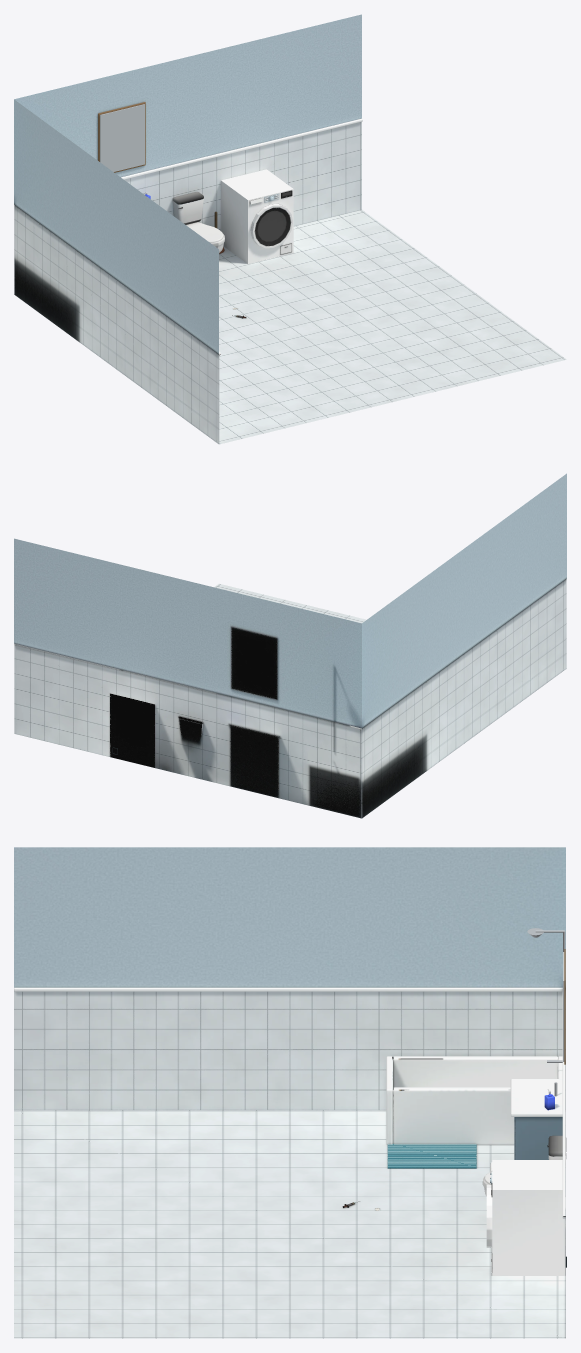
Rendered from escenario_fentanilo.glb.
3 renders of one model, top to bottom at view 1: azimuth 30°, elevation 25°; view 2: azimuth 150°, elevation 25°; view 3: azimuth 270°, elevation 25°, orthographic. The views are drawn at different scales.
Visible parts, largest first — view 1: Piso, Pared_fondo, Pared_izq, Enchape_izq, Enchape_fondo, Mueble_KA-F600_Washer_V1, Espejo, Mueble_Toilet, Remate_fondo; view 2: Pared_fondo, Enchape_fondo, Pared_izq, Enchape_izq, Piso; view 3: Piso, Pared_izq, Enchape_izq, Mueble_KA-F600_Washer_V1, Banera_pared2, Banera_pared3, Remate_izq, Alfombra_bano, Tope, Gabinete, Remate_fondo, Banera_pared0.
Part boxes in pixels (x1=…): Piso: x1=14, y1=210, x2=566, y2=444; Pared_fondo: x1=14, y1=14, x2=361, y2=177; Pared_izq: x1=14, y1=99, x2=218, y2=353; Enchape_izq: x1=14, y1=205, x2=219, y2=443; Enchape_fondo: x1=124, y1=121, x2=361, y2=230; Mueble_KA-F600_Washer_V1: x1=221, y1=169, x2=293, y2=263; Espejo: x1=100, y1=104, x2=144, y2=171; Mueble_Toilet: x1=172, y1=192, x2=224, y2=252; Remate_fondo: x1=121, y1=118, x2=362, y2=179; Pared_fondo: x1=14, y1=538, x2=361, y2=728; Enchape_fondo: x1=14, y1=644, x2=361, y2=818; Pared_izq: x1=362, y1=473, x2=566, y2=727; Enchape_izq: x1=361, y1=579, x2=566, y2=817; Piso: x1=14, y1=583, x2=565, y2=818; Piso: x1=14, y1=1110, x2=565, y2=1338; Pared_izq: x1=14, y1=847, x2=565, y2=988; Enchape_izq: x1=14, y1=989, x2=565, y2=1110; Mueble_KA-F600_Washer_V1: x1=486, y1=1160, x2=566, y2=1275; Banera_pared2: x1=393, y1=1087, x2=514, y2=1144; Banera_pared3: x1=393, y1=1056, x2=557, y2=1088; Remate_izq: x1=14, y1=987, x2=562, y2=991; Alfombra_bano: x1=387, y1=1144, x2=476, y2=1168; Tope: x1=510, y1=1079, x2=562, y2=1116; Gabinete: x1=515, y1=1117, x2=562, y2=1159; Remate_fondo: x1=562, y1=989, x2=565, y2=1218; Banera_pared0: x1=386, y1=1056, x2=392, y2=1144.
Bounding box in the file's own units: 4.85 × 2.6 × 4.96.
Materials: 16 (13 with a texture image).
